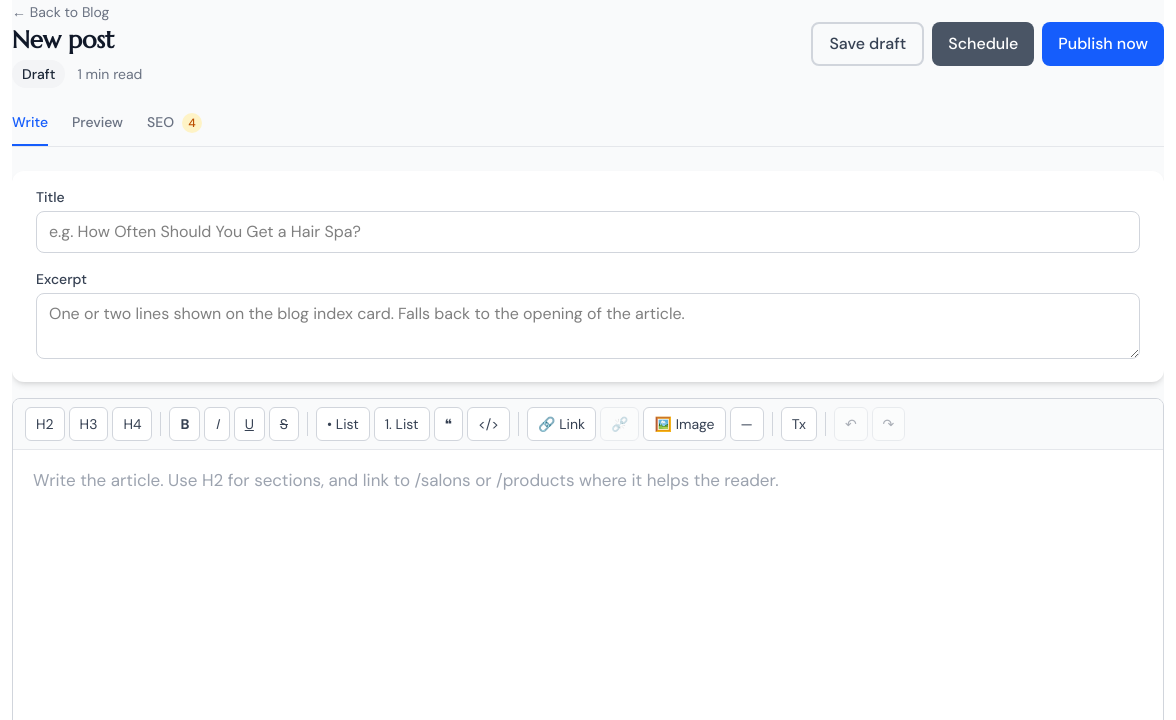
Test: new post › derives the slug from the title as it is typed
Type "Best Hair Spa in Delhi (2026)" into the field labelled "Title". click: point(588, 232)
box: [36,211,1140,253]
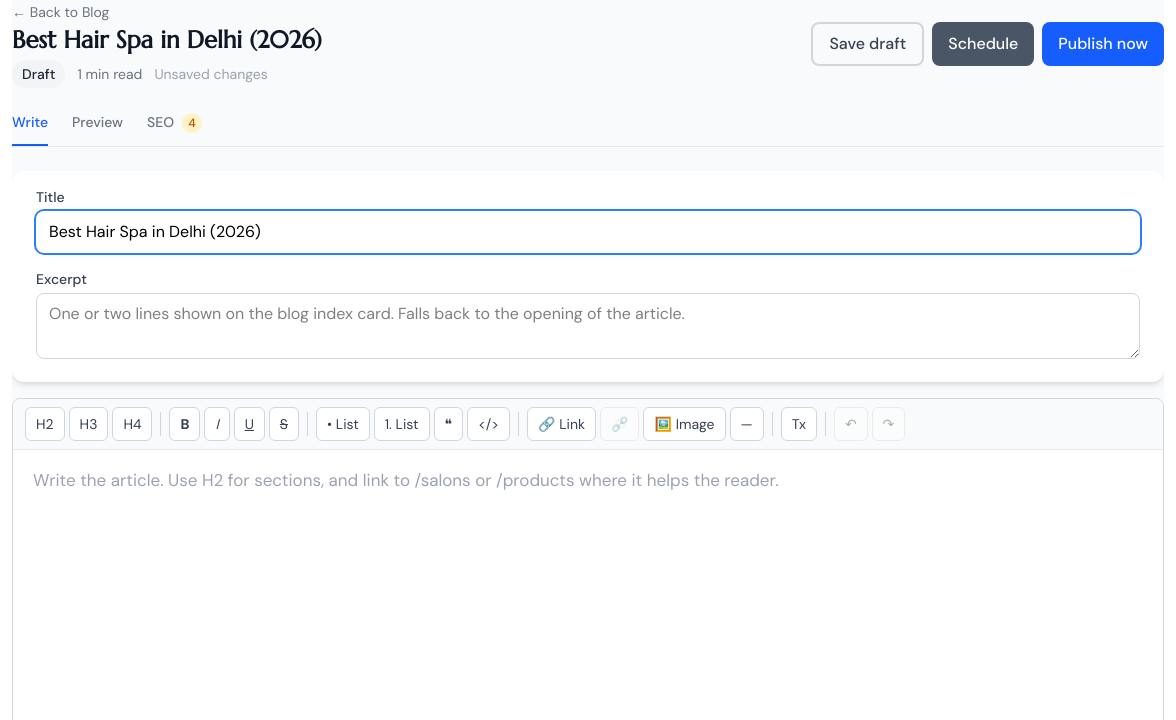
Click the tab "SEO4". click: point(174, 129)
box: [147,112,202,146]
(page scrolled)
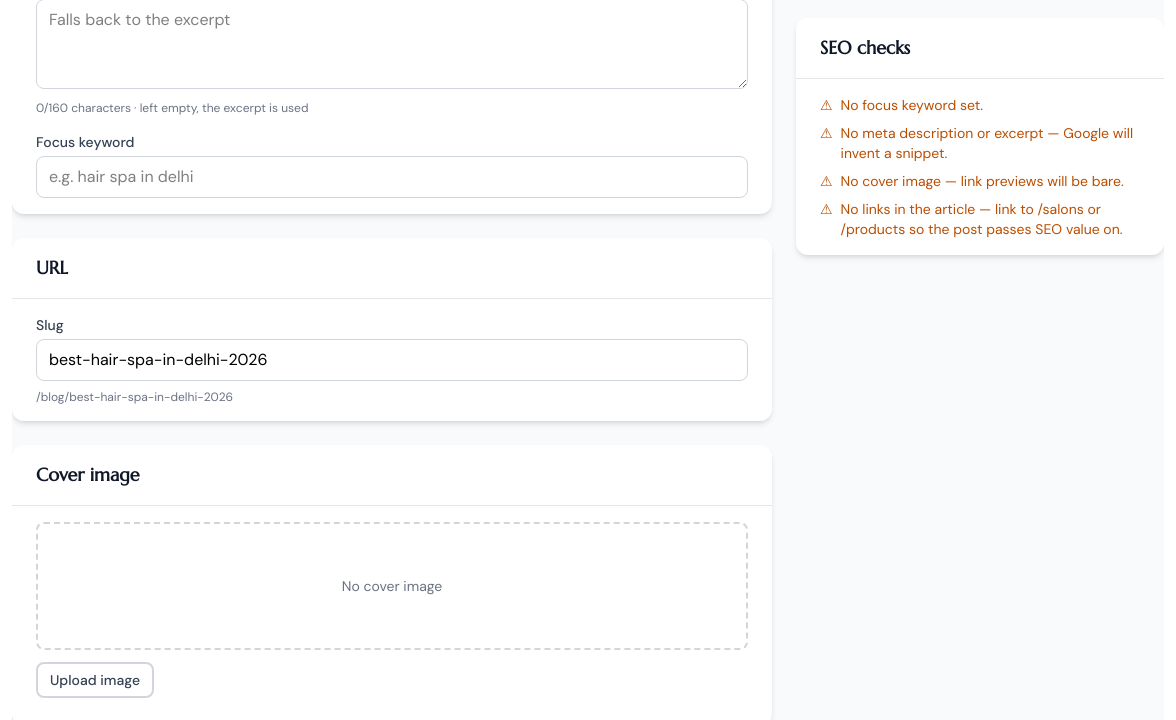
Expected: the field labelled "Slug" holds "best-hair-spa-in-delhi-2026", [36,339,748,381]
